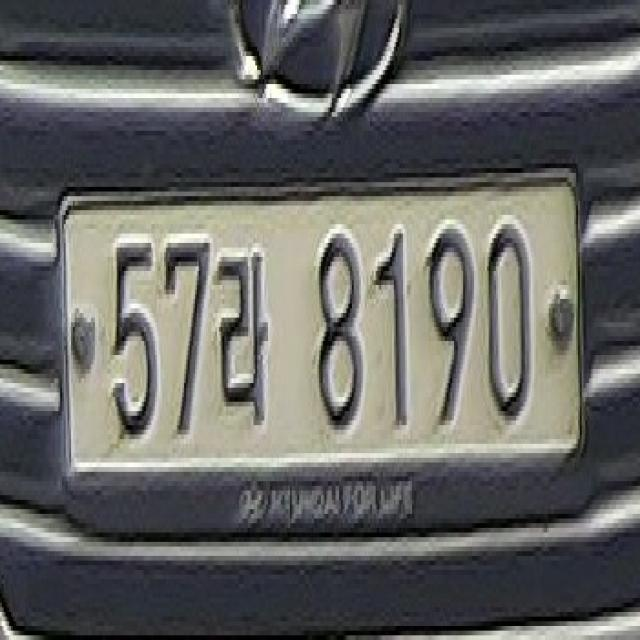0: (486, 210, 535, 428)
1: (371, 227, 411, 437)
5: (106, 220, 162, 440)
7: (162, 220, 212, 448)
8: (308, 225, 364, 434)
9: (420, 224, 477, 426)
la: (216, 230, 274, 430)
license_plate: (54, 175, 586, 478)
